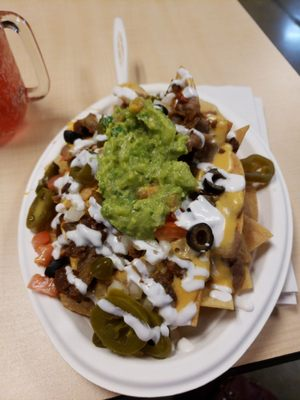curry: (95, 98, 202, 240)
